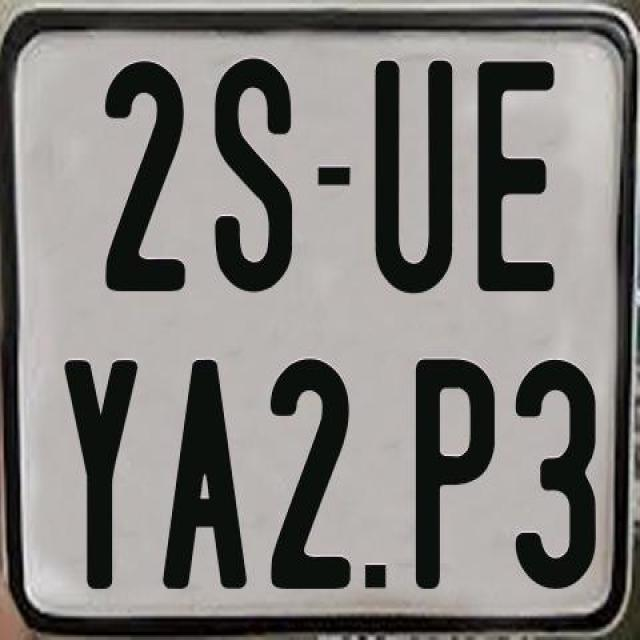2: (102, 59, 190, 290), (266, 358, 351, 589)
3: (512, 357, 594, 592)
A: (160, 357, 244, 590)
E: (477, 58, 559, 288)
P: (413, 355, 498, 592)
S: (214, 58, 294, 292)
U: (373, 59, 456, 299)
Y: (64, 357, 143, 596)
